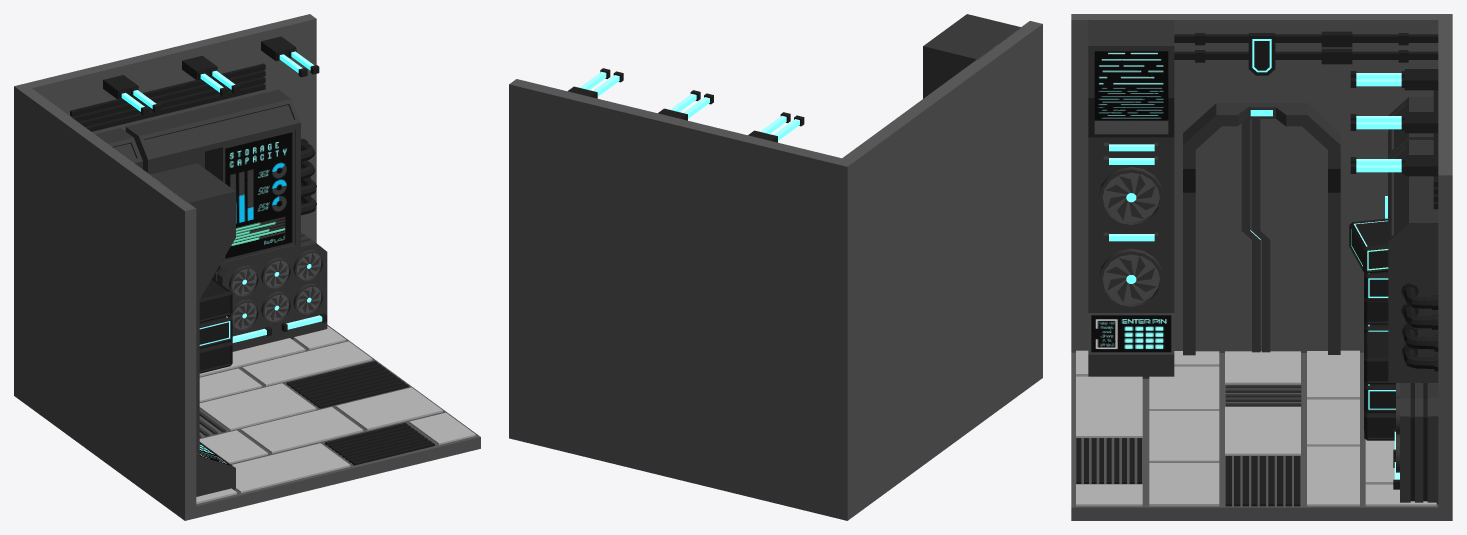
File: storage-room.glb
3 renders of one model, left to right at view 1: azimuth 30°, elevation 25°; view 2: azimuth 150°, elevation 25°; view 3: azimuth 270°, elevation 25°, orthographic. The views are drawn at different scales.
Parts seen in each view (by area): view 1: Object_4, Object_6, Object_16, Object_8, Object_5, Object_17, Object_7; view 2: Object_4, Object_6, Object_7, Object_8; view 3: Object_4, Object_6, Object_16, Object_8, Object_5, Object_17, Object_7, Object_18.
Part boxes in pixels (left/top/right/bottom): Object_4: left=14, top=14, right=480, bottom=520; Object_6: left=95, top=89, right=327, bottom=496; Object_16: left=196, top=326, right=475, bottom=504; Object_8: left=70, top=36, right=327, bottom=373; Object_5: left=199, top=132, right=292, bottom=465; Object_17: left=286, top=361, right=434, bottom=465; Object_7: left=121, top=51, right=322, bottom=345; Object_4: left=509, top=21, right=1042, bottom=520; Object_6: left=923, top=14, right=1021, bottom=98; Object_7: left=580, top=71, right=799, bottom=140; Object_8: left=568, top=68, right=804, bottom=142; Object_4: left=1071, top=14, right=1452, bottom=520; Object_6: left=1088, top=19, right=1438, bottom=504; Object_16: left=1076, top=350, right=1436, bottom=506; Object_8: left=1174, top=31, right=1438, bottom=501; Object_5: left=1091, top=51, right=1171, bottom=352; Object_17: left=1076, top=438, right=1300, bottom=506; Object_7: left=1109, top=39, right=1401, bottom=479; Object_18: left=1225, top=385, right=1301, bottom=406.
Size of the model in its own units: 2.63 by 2.63 by 2.63.
Materials: 7 (1 with a texture image).
